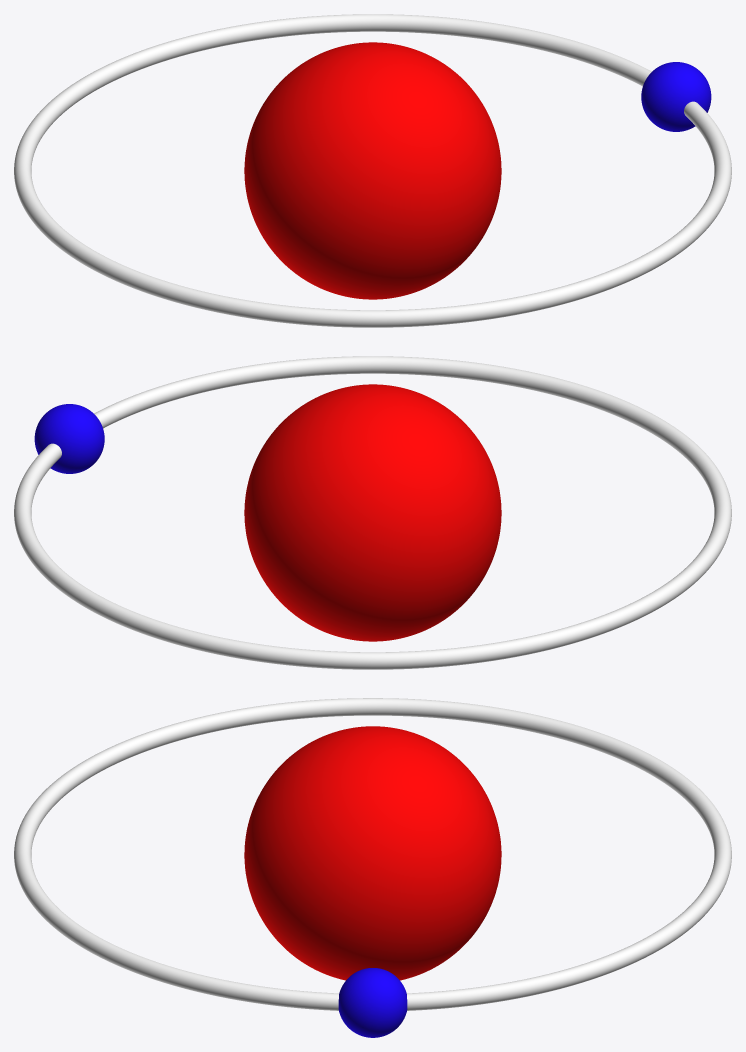
The model's file is hidrogeno.glb.
3 views of the same model, one above another, from view 1: azimuth 30°, elevation 25°; view 2: azimuth 150°, elevation 25°; view 3: azimuth 270°, elevation 25° (orthographic).
Visible parts, largest first — view 1: Nucleo_1, Torus_7, Helio_5; view 2: Nucleo_1, Torus_7, Helio_5; view 3: Nucleo_1, Torus_7, Helio_5.
Part boxes in pixels (bbox=[...]): Nucleo_1: bbox=[244, 42, 501, 299]; Torus_7: bbox=[14, 14, 731, 327]; Helio_5: bbox=[641, 62, 711, 131]; Nucleo_1: bbox=[244, 384, 501, 641]; Torus_7: bbox=[14, 356, 731, 669]; Helio_5: bbox=[34, 404, 104, 473]; Nucleo_1: bbox=[244, 726, 501, 980]; Torus_7: bbox=[14, 698, 731, 1010]; Helio_5: bbox=[338, 968, 407, 1037].
Size of the model in its own units: 21.25 by 7.34 by 20.5.
